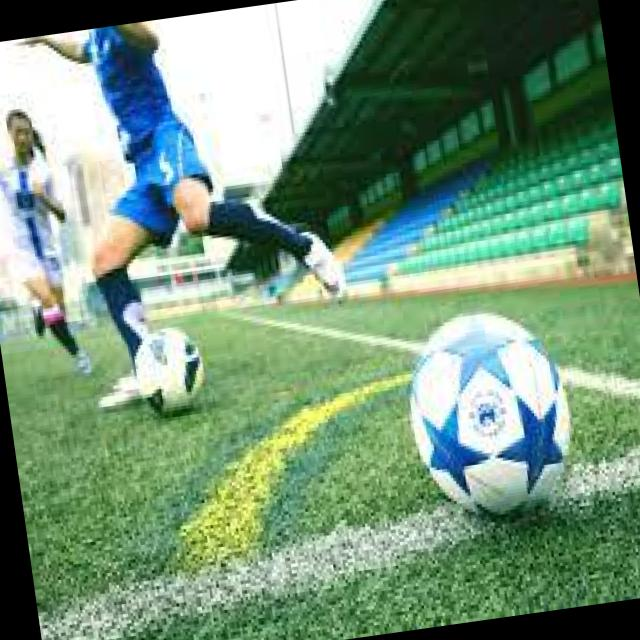Soccer Ball: (392, 300, 581, 522), (131, 323, 211, 418)
